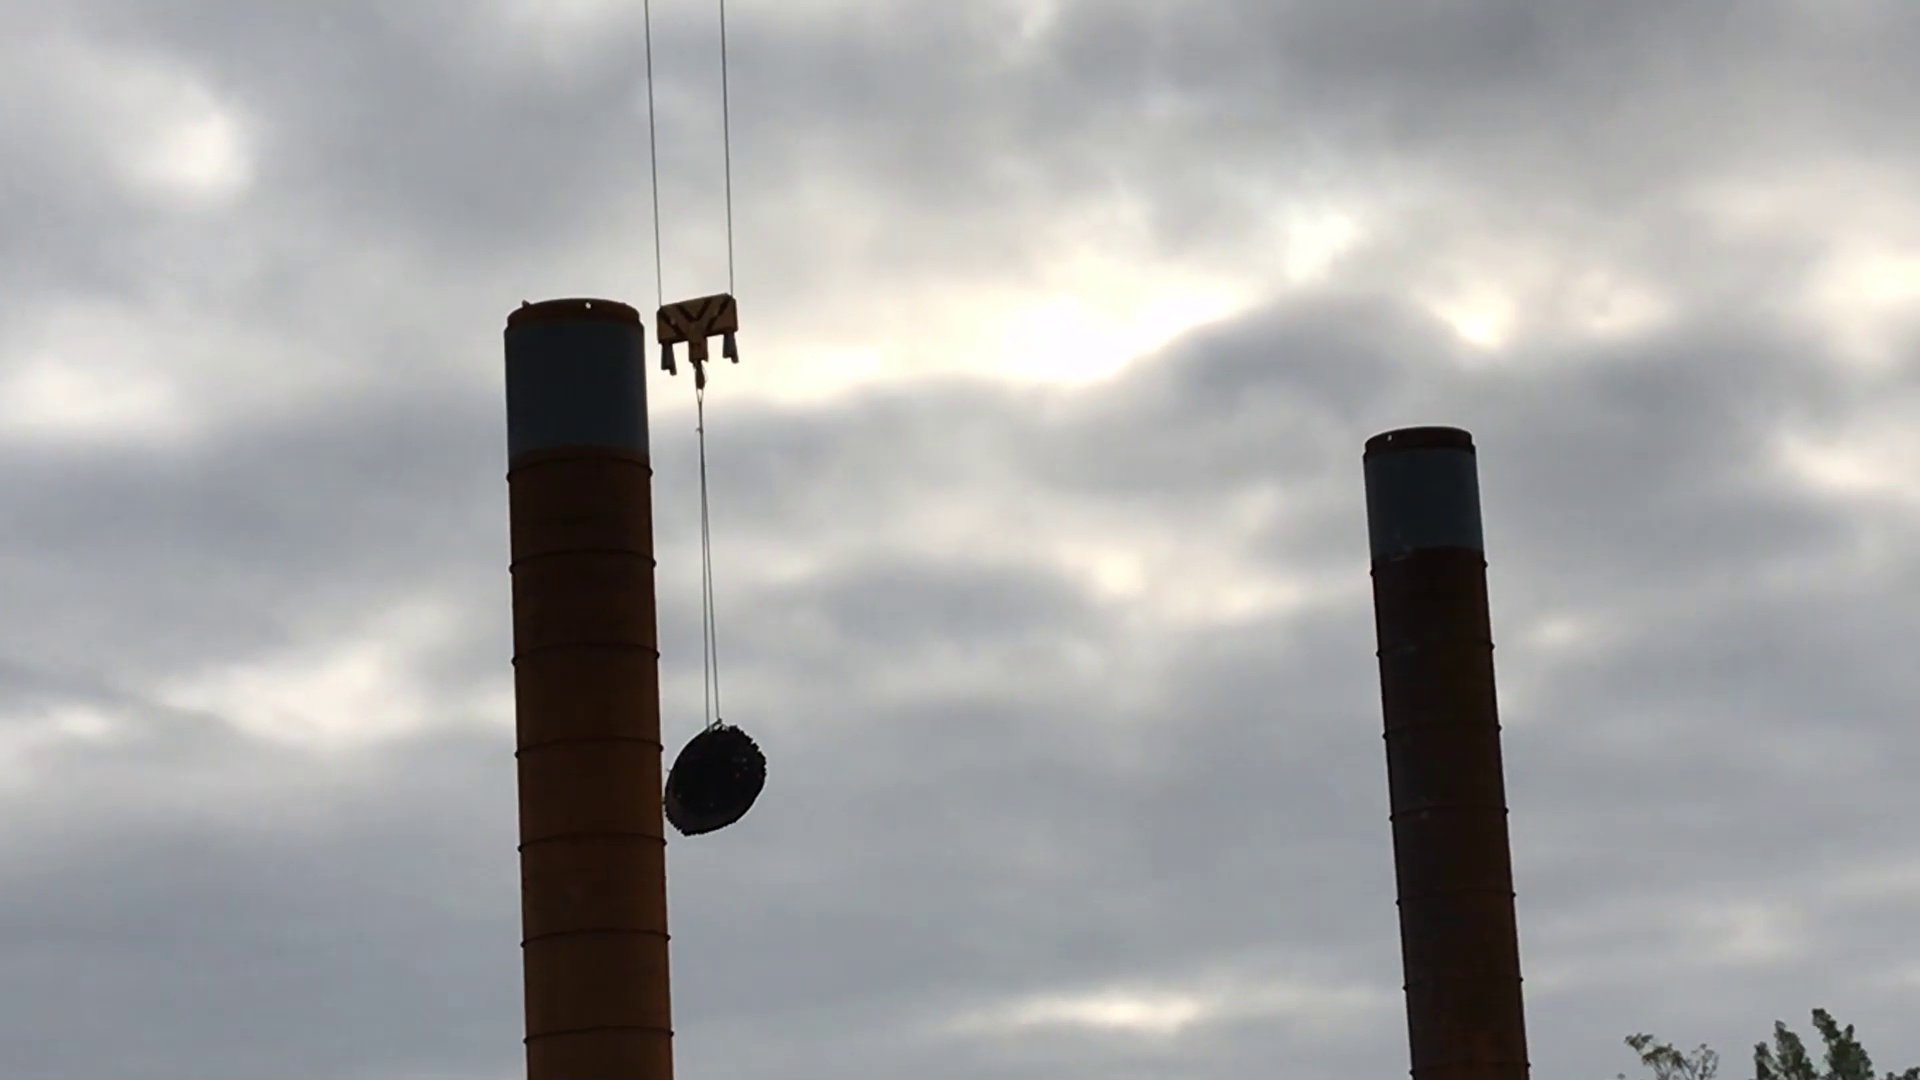hook: (650, 291, 752, 386)
